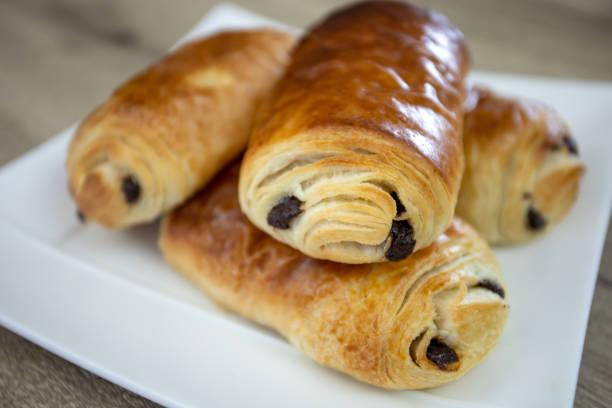pain au chocolat: (156, 193, 519, 393), (243, 0, 469, 266), (55, 9, 262, 233), (457, 65, 589, 269)
